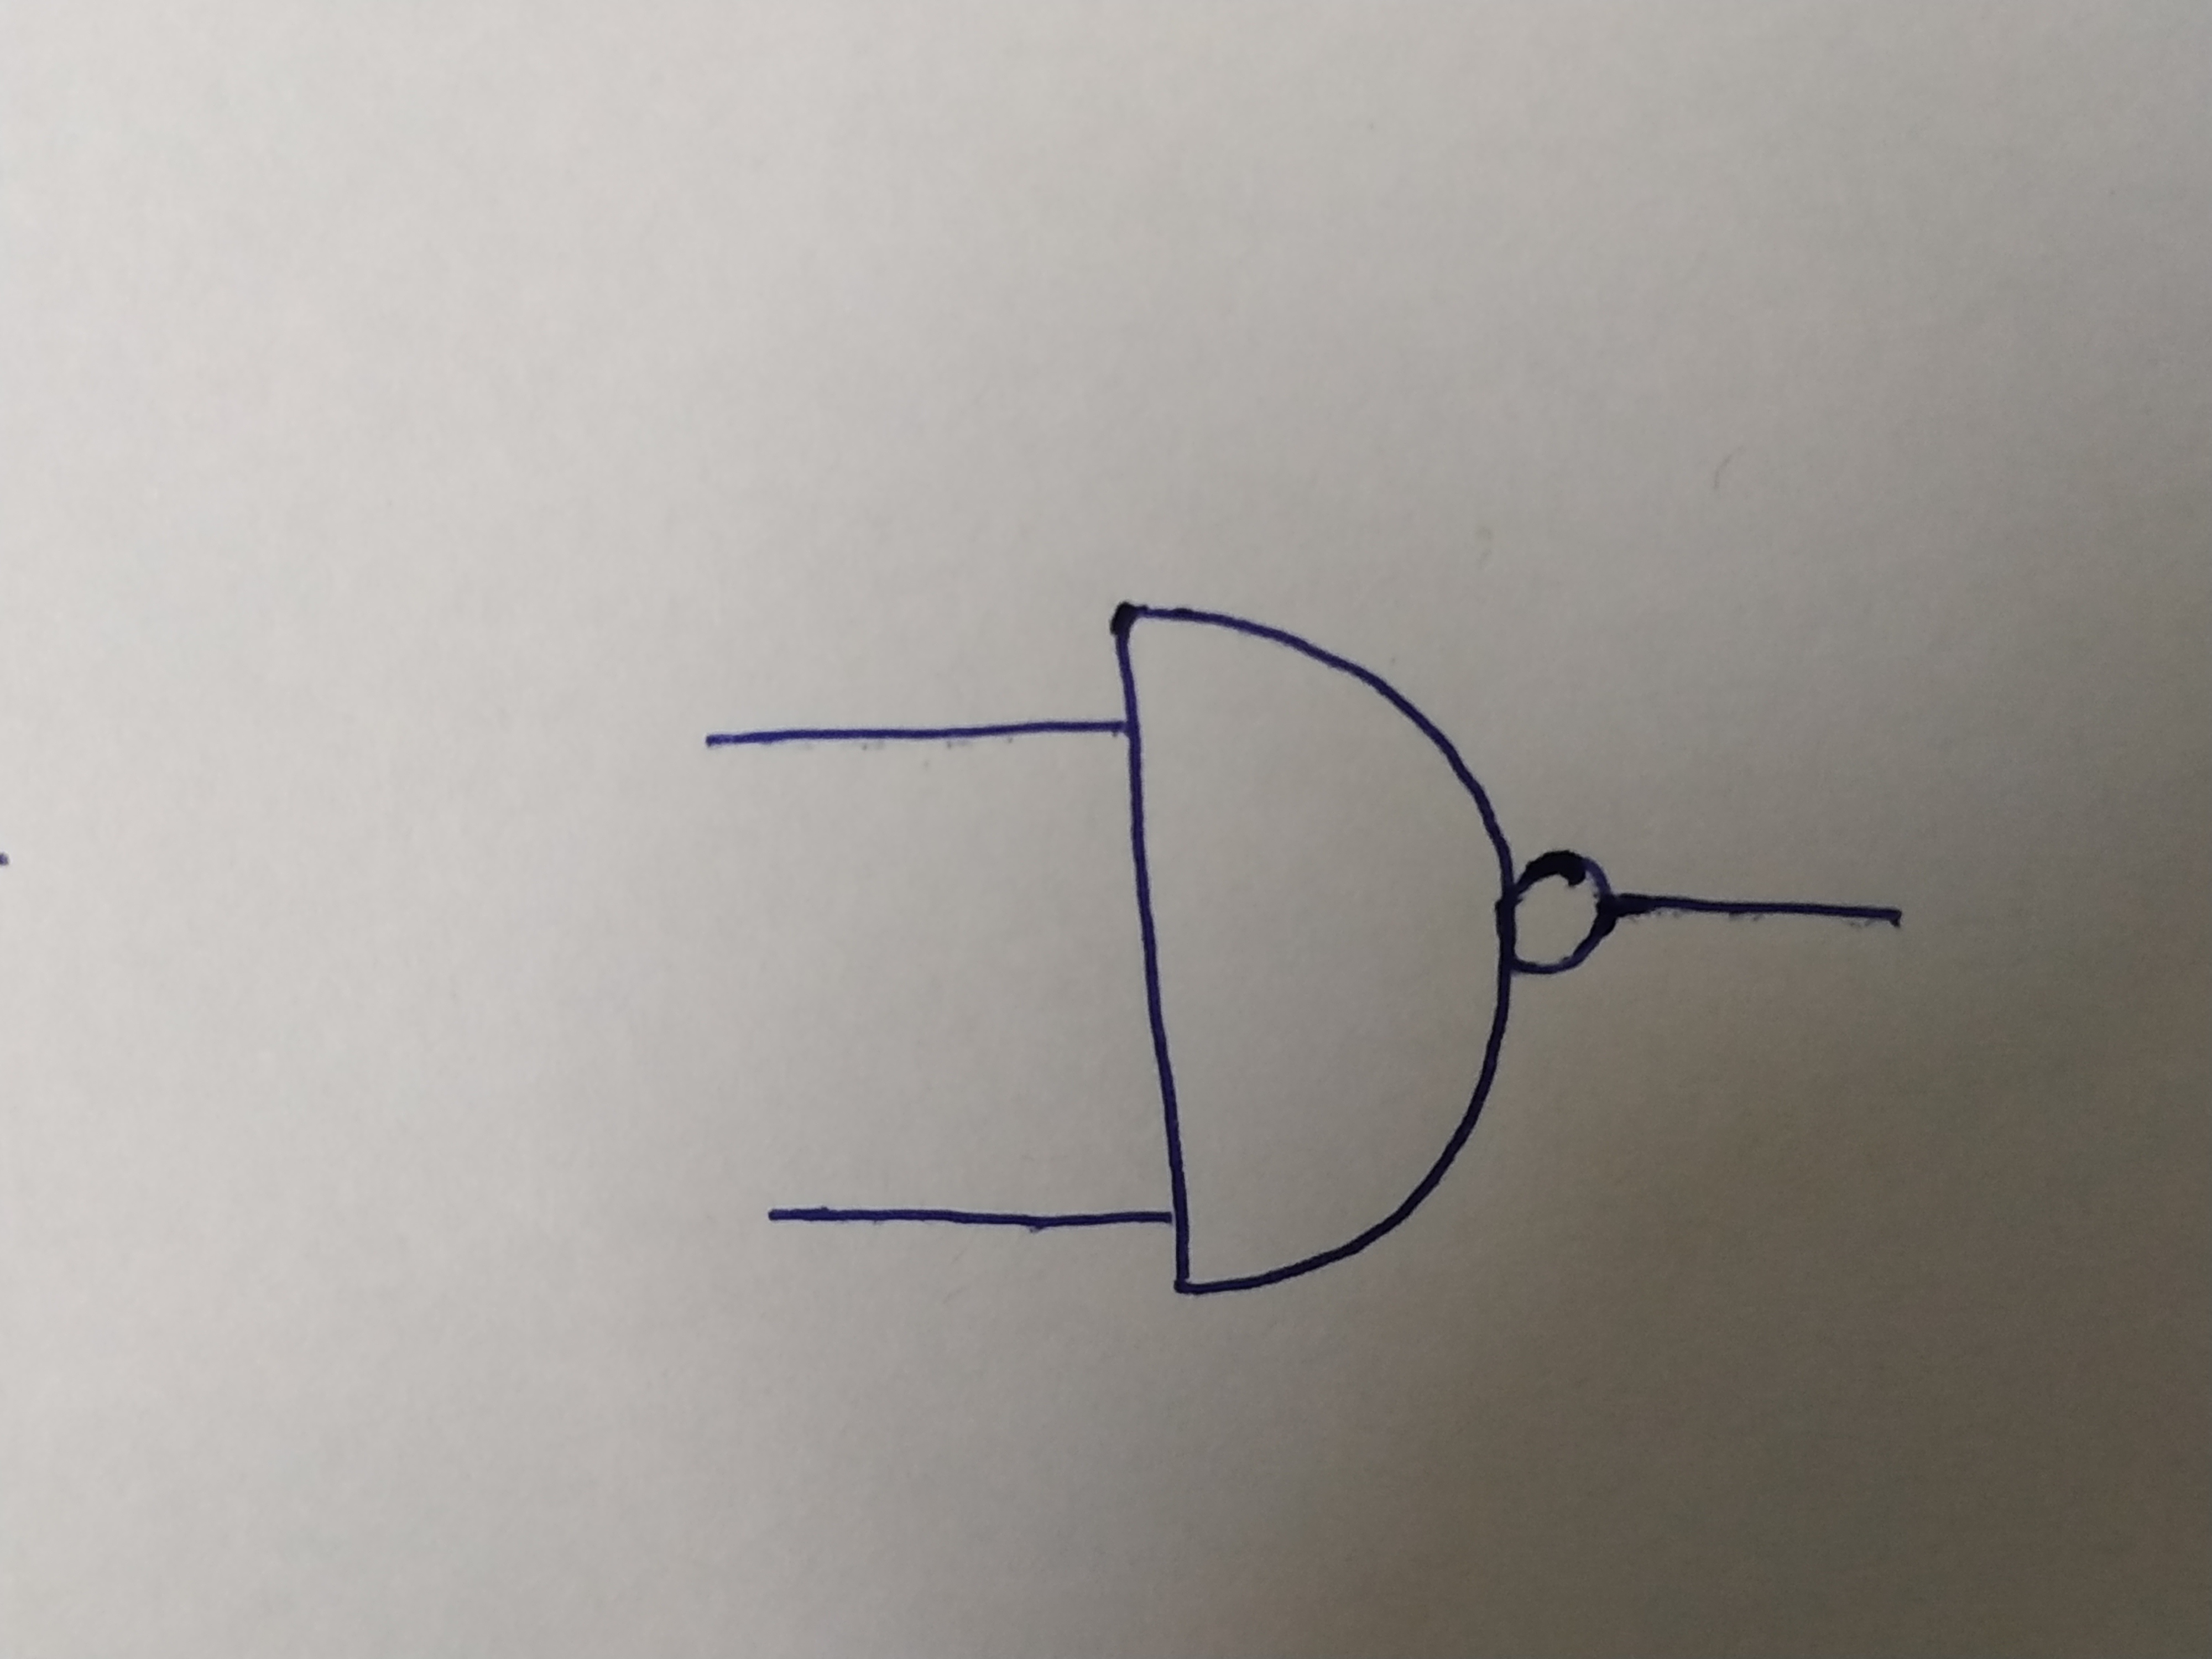and: (1118, 584, 1505, 1295)
not: (1510, 859, 1604, 969)
